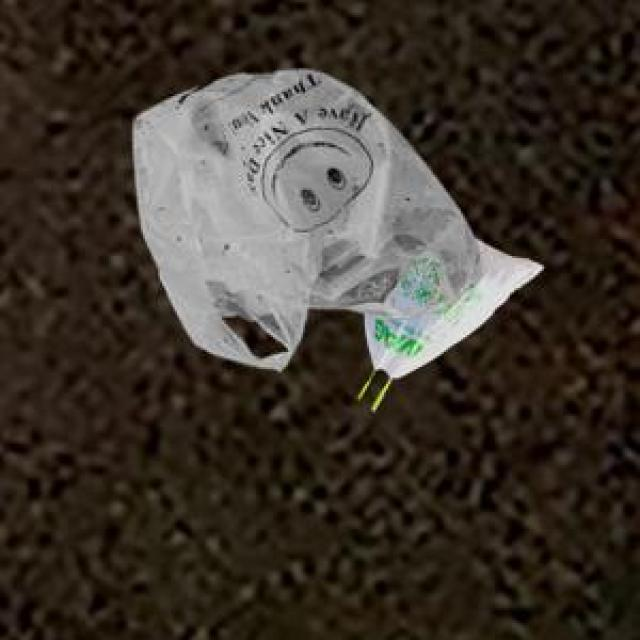plastic: (102, 50, 563, 446)
